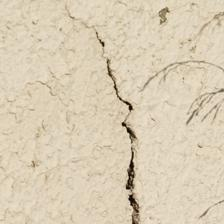Crack: (15, 0, 70, 129), (40, 18, 70, 129)
